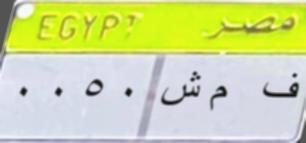0: (118, 83, 138, 105), (50, 82, 69, 103), (15, 79, 31, 102)
5: (82, 79, 107, 102)
faa: (257, 70, 300, 107)
meem: (205, 80, 231, 114)
sheen: (160, 67, 201, 115)
